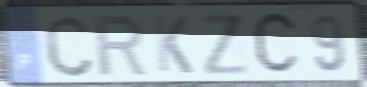9: (310, 12, 347, 75)
C: (42, 12, 97, 80), (250, 8, 301, 80)
K: (151, 14, 195, 76)
R: (92, 14, 148, 78)
Z: (198, 11, 252, 77)
